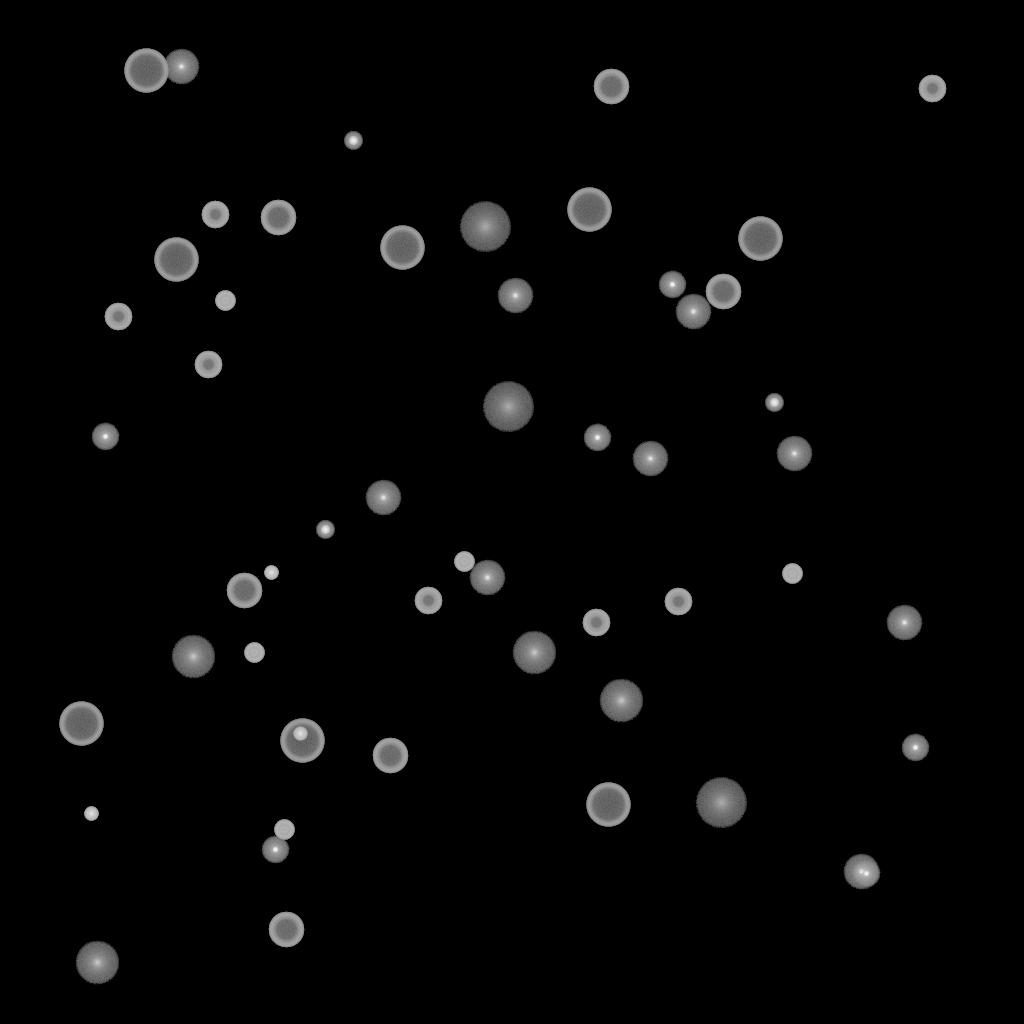depth:-10: (658, 271, 686, 299), (901, 734, 929, 762), (261, 836, 289, 864), (852, 860, 880, 888), (91, 423, 119, 451), (583, 424, 611, 452)
depth:-20: (765, 394, 783, 412), (316, 521, 334, 539), (344, 132, 362, 150)
depth:-30: (84, 807, 98, 821), (264, 566, 278, 580), (293, 727, 307, 741)
depth:-40: (274, 820, 294, 840), (244, 643, 264, 663), (215, 291, 235, 311), (454, 552, 474, 572), (782, 564, 802, 584)
depth:-50: (582, 609, 610, 637), (104, 303, 132, 331), (918, 75, 946, 103), (664, 588, 692, 616), (201, 201, 229, 229), (414, 587, 442, 615), (194, 351, 222, 379)
depth:-60: (268, 912, 304, 948), (226, 573, 262, 609), (260, 200, 296, 236), (705, 274, 741, 310), (372, 738, 408, 774), (593, 69, 629, 105)
depth:-70: (738, 217, 782, 261), (59, 702, 103, 746), (124, 49, 168, 93), (567, 188, 611, 232), (380, 226, 424, 270), (280, 719, 324, 763), (586, 783, 630, 827), (154, 238, 198, 282)
depth:0: (632, 441, 668, 477), (163, 49, 199, 85), (886, 605, 922, 641), (469, 560, 505, 596), (497, 278, 533, 314), (675, 294, 711, 330), (843, 854, 879, 890), (776, 436, 812, 472), (365, 480, 401, 516)
depth:10: (75, 941, 119, 985), (599, 679, 643, 723), (171, 635, 215, 679), (512, 631, 556, 675)
depth:20: (695, 778, 747, 828), (482, 382, 534, 432), (459, 202, 511, 252)
